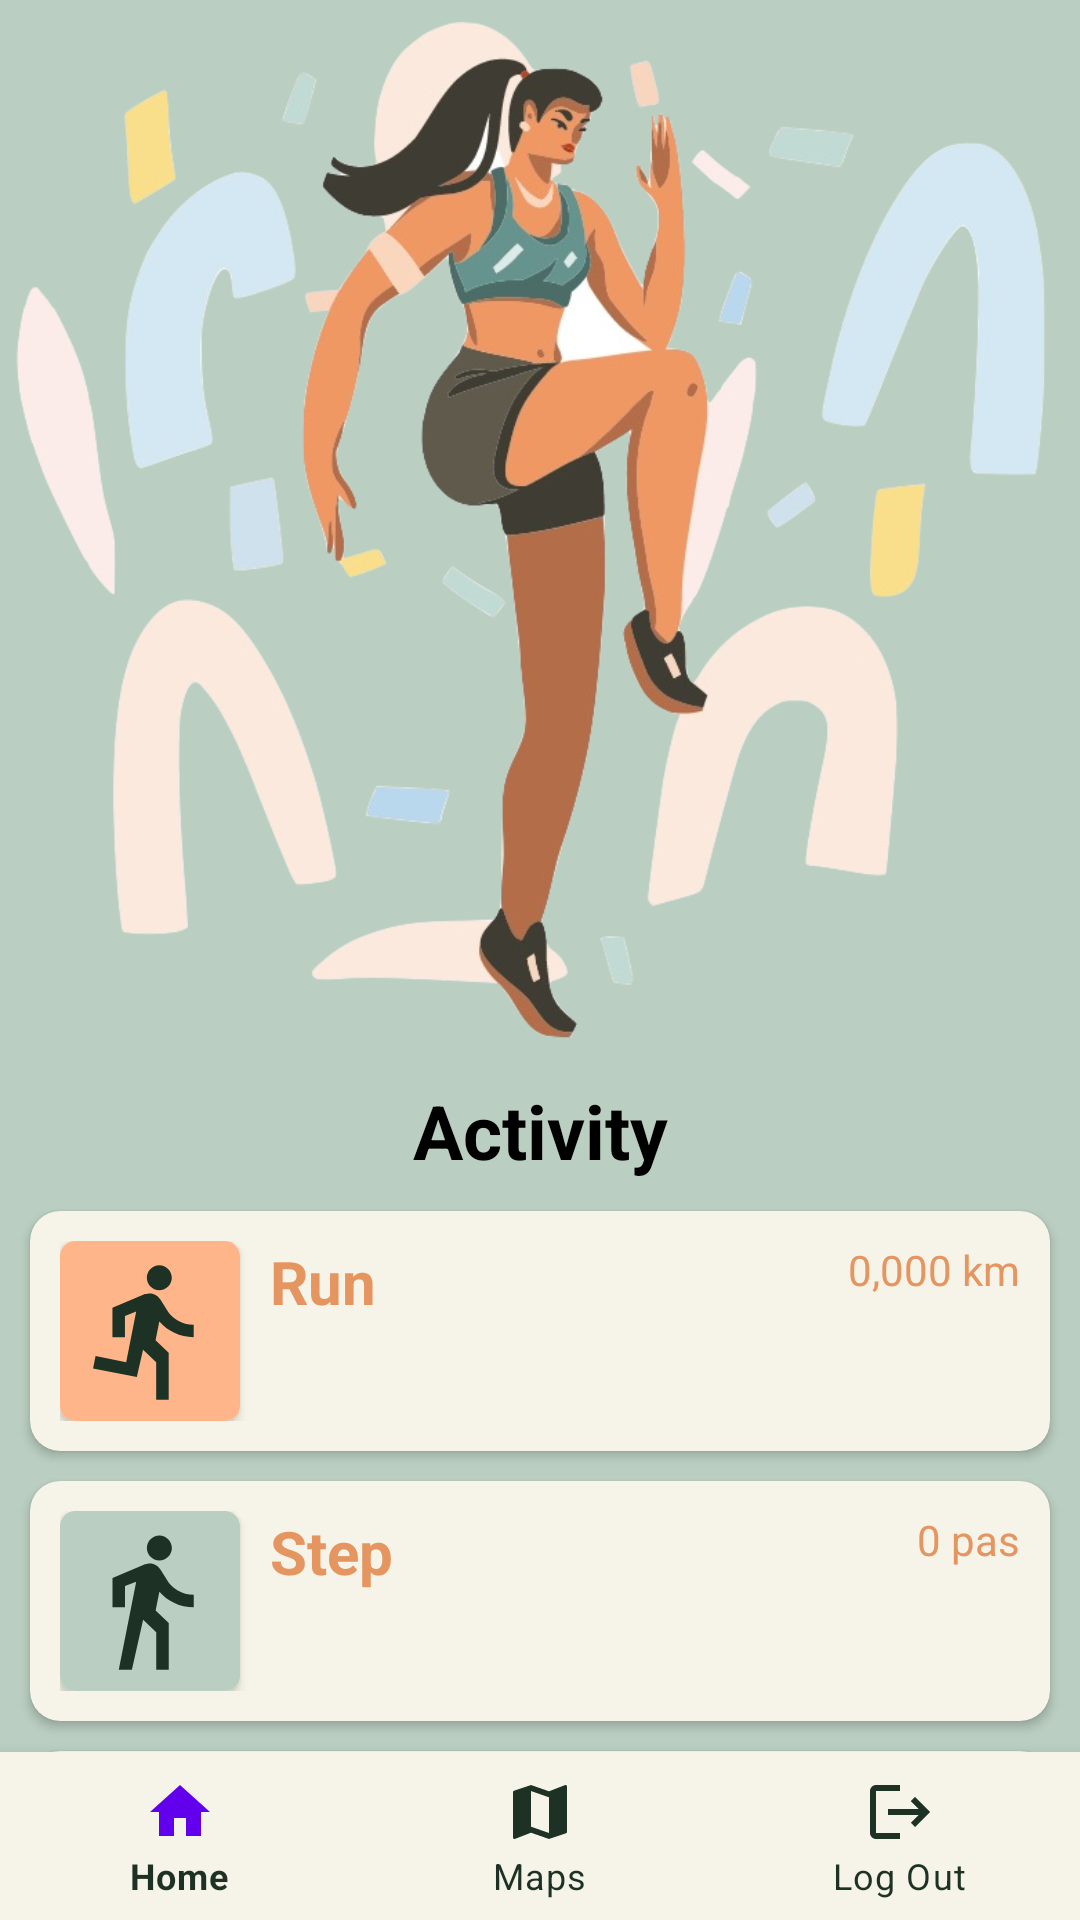

Named icons in this screenshot (1080x1920) and their centers, [x,y]:
walk: [150,1601]
